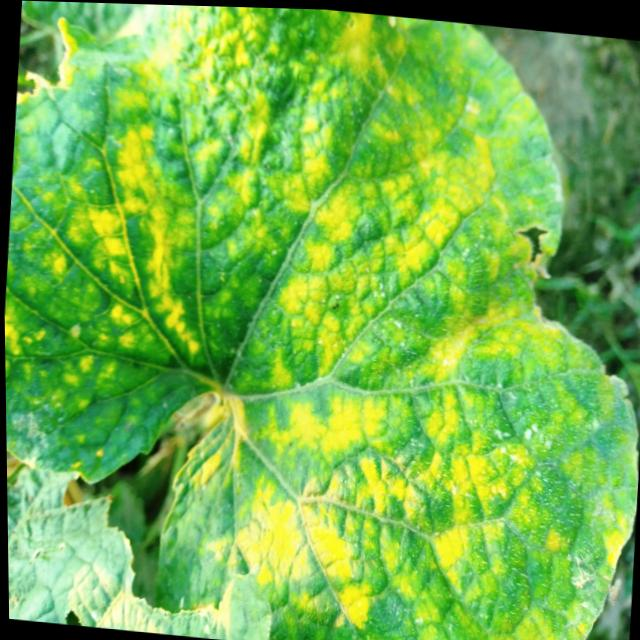Downy-Mildew: (4, 3, 636, 640)
